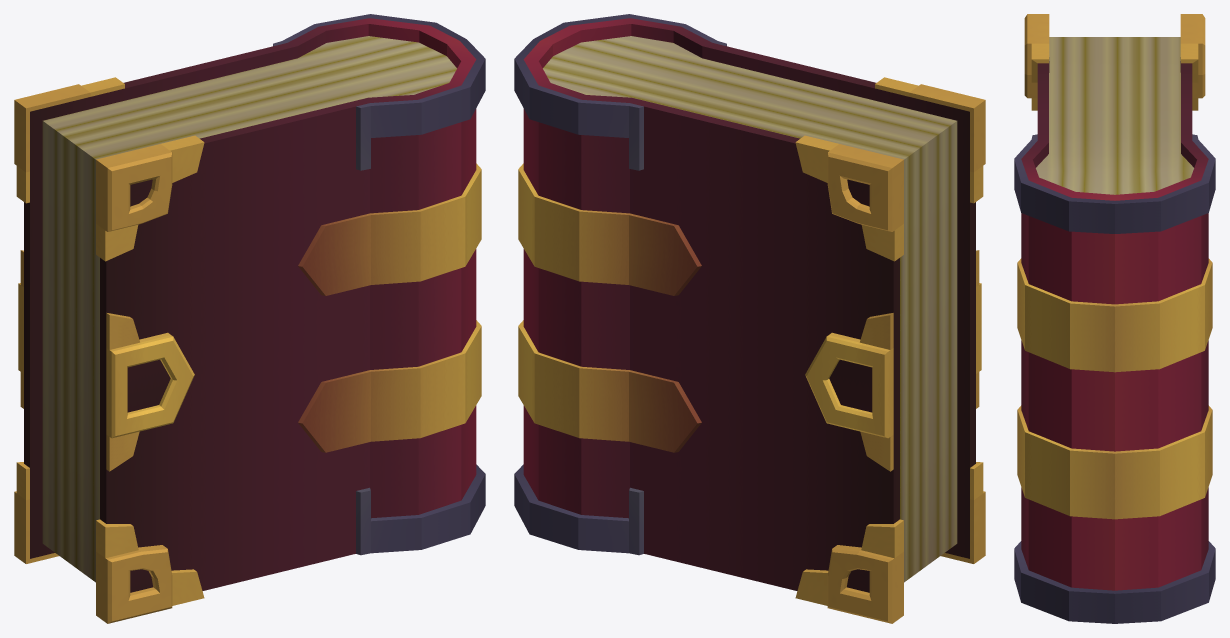
Rendered from Book_1.fbx.
The picture shows the model from 3 angles, left to right: view 1: azimuth 30°, elevation 25°; view 2: azimuth 150°, elevation 25°; view 3: azimuth 270°, elevation 25°; orthographic projection. The views are drawn at different scales.
Visible parts, largest first — view 1: Book_1; view 2: Book_1; view 3: Book_1.
Boxes of the visible parts, x1,y1,x2,y2 form: Book_1: [14, 14, 485, 623]; Book_1: [514, 14, 985, 623]; Book_1: [1014, 14, 1215, 623].
Size of the model in its own units: 29.58 by 31.74 by 13.55.
